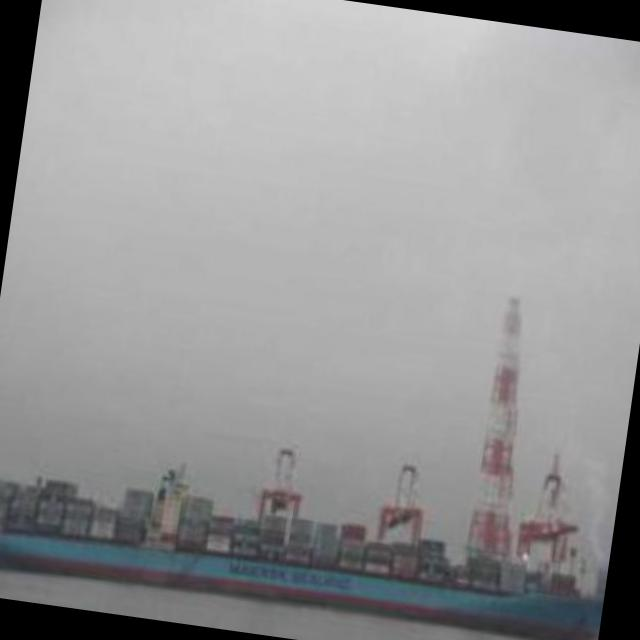boat: (0, 442, 602, 640)
